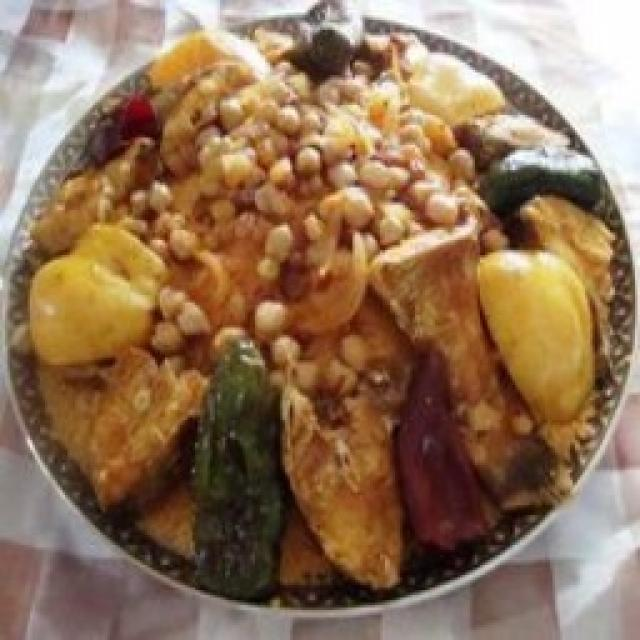Couscous: (30, 28, 611, 599)
